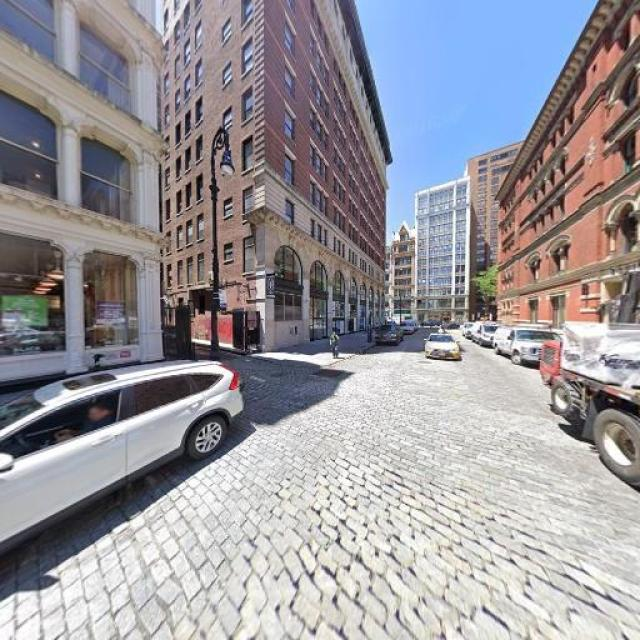Building: (1, 1, 159, 399), (500, 1, 640, 358), (265, 1, 385, 349)
